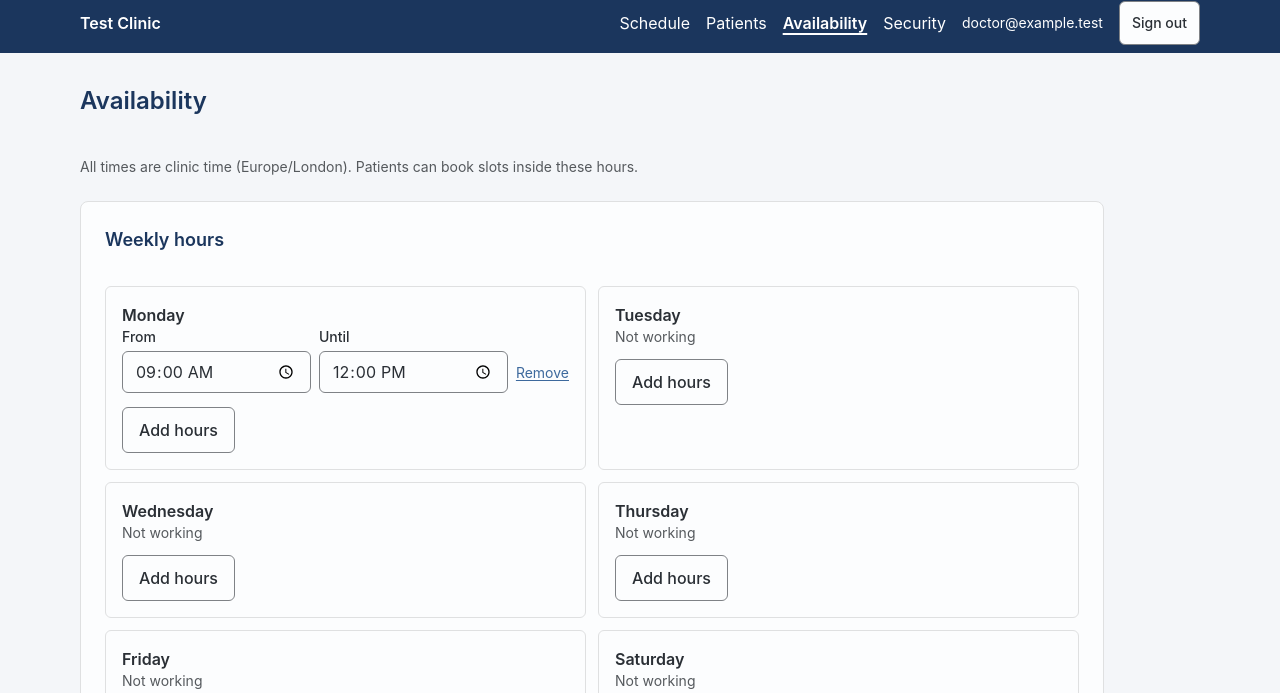
it: availability page (doctor) › adds hours to a day and saves the whole week
Expected: the time field named "Monday hours 1 from" is shown, [122,351,311,393]
Click the button named "Add hours on Tuesday" at [672, 382], box [615,359,728,405]
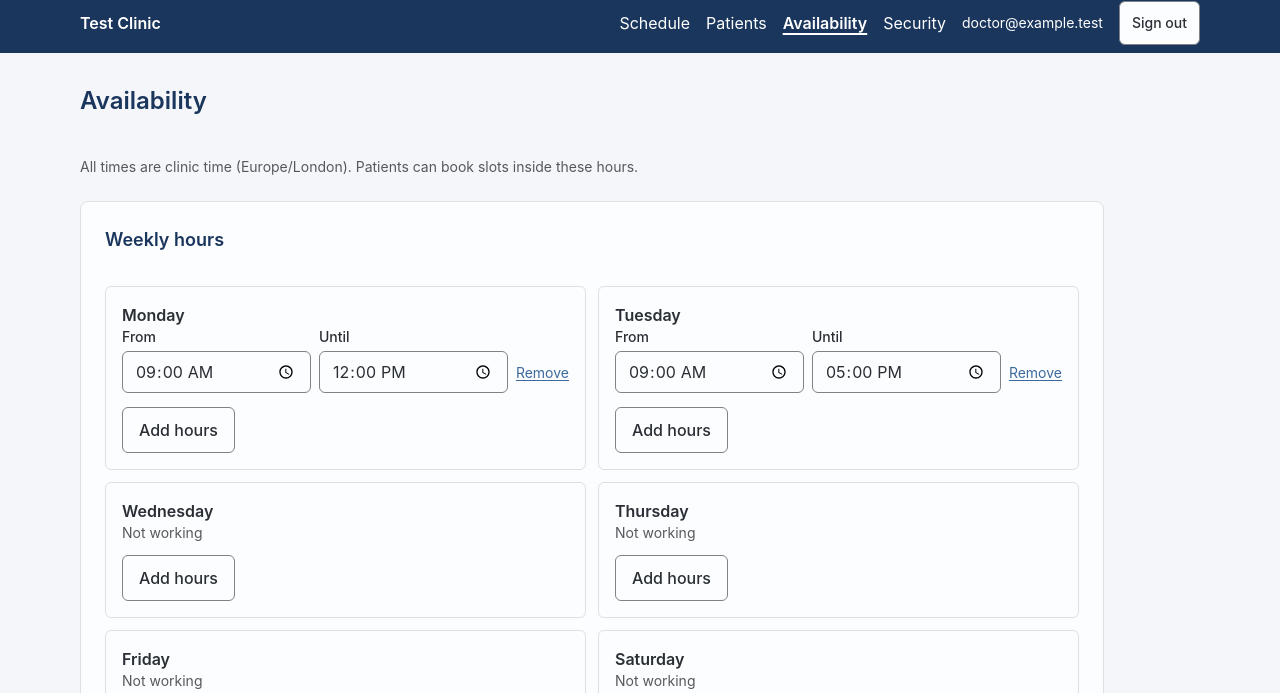
Now the time field named "Tuesday hours 1 from" holds "09:00", box [615,351,804,393]
Replace the text in the time field named "Tuesday hours 1 until" with "13:30" at [906, 372], box [812,351,1001,393]
(page scrolled)
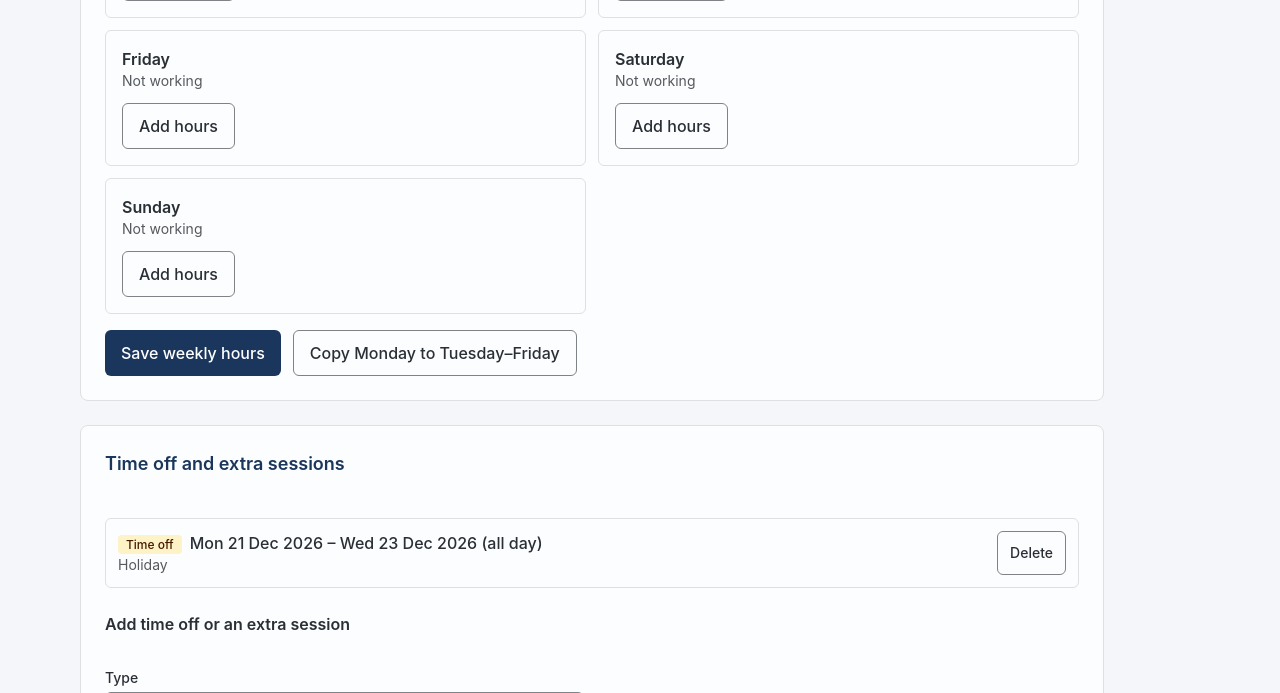
Click the button "Save weekly hours" at [193, 353], box [105,330,281,376]
(page scrolled)
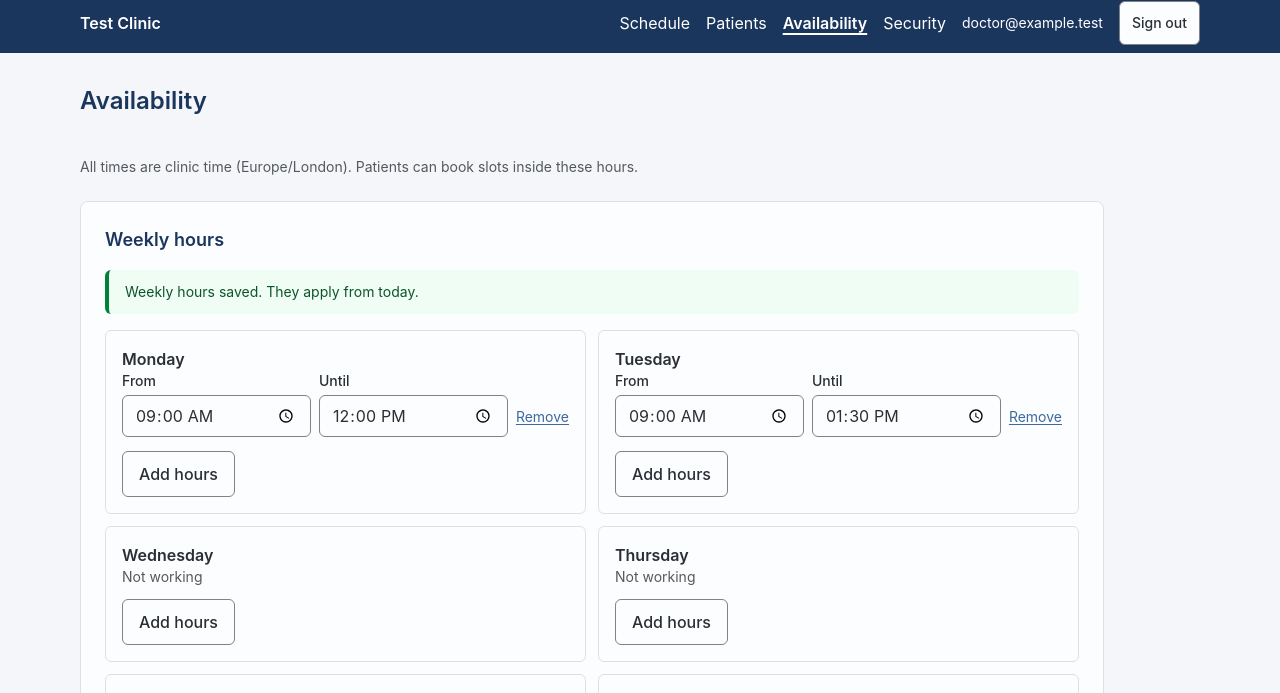
Now the text "Weekly hours saved. They apply from today." is shown, box [125,283,419,300]
